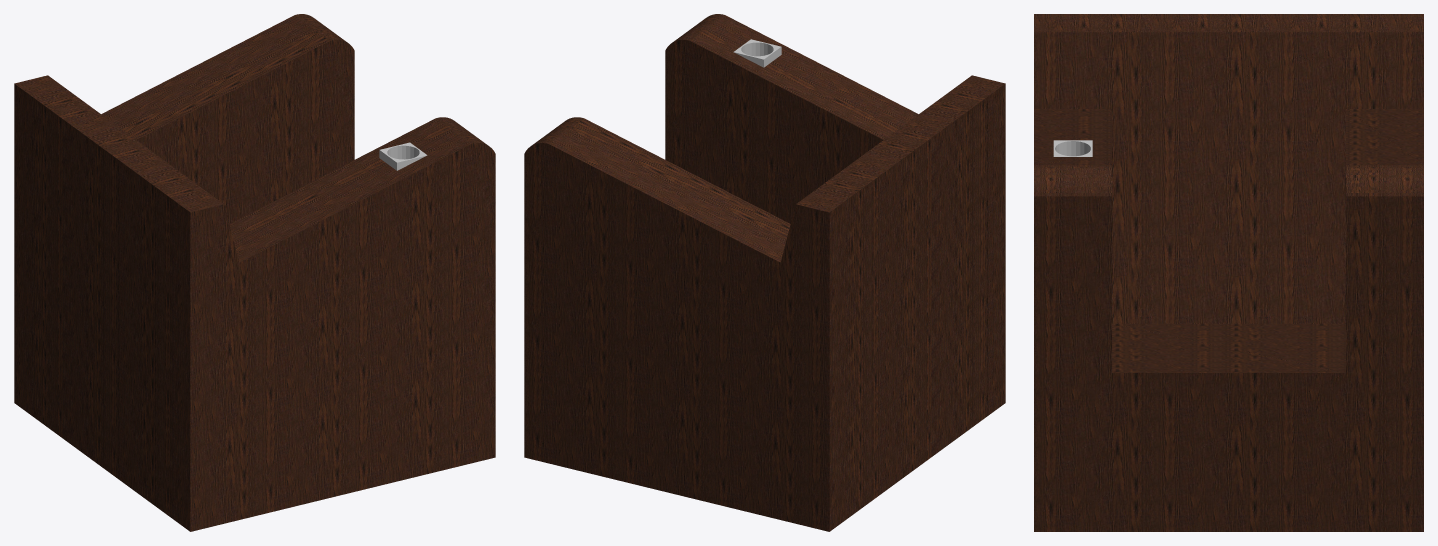
3 views of the same model, side by side, from view 1: azimuth 30°, elevation 25°; view 2: azimuth 150°, elevation 25°; view 3: azimuth 270°, elevation 25° (orthographic). The views are drawn at different scales.
Visible parts, largest first — view 1: mesh1.001_mesh1-geometry; view 2: mesh1.001_mesh1-geometry; view 3: mesh1.001_mesh1-geometry.
Part boxes in pixels (x1=…): mesh1.001_mesh1-geometry: x1=14, y1=14, x2=495, y2=531; mesh1.001_mesh1-geometry: x1=524, y1=14, x2=1005, y2=531; mesh1.001_mesh1-geometry: x1=1034, y1=14, x2=1423, y2=531.
Size of the model in its own units: 0.5773 by 0.5774 by 0.5773.
